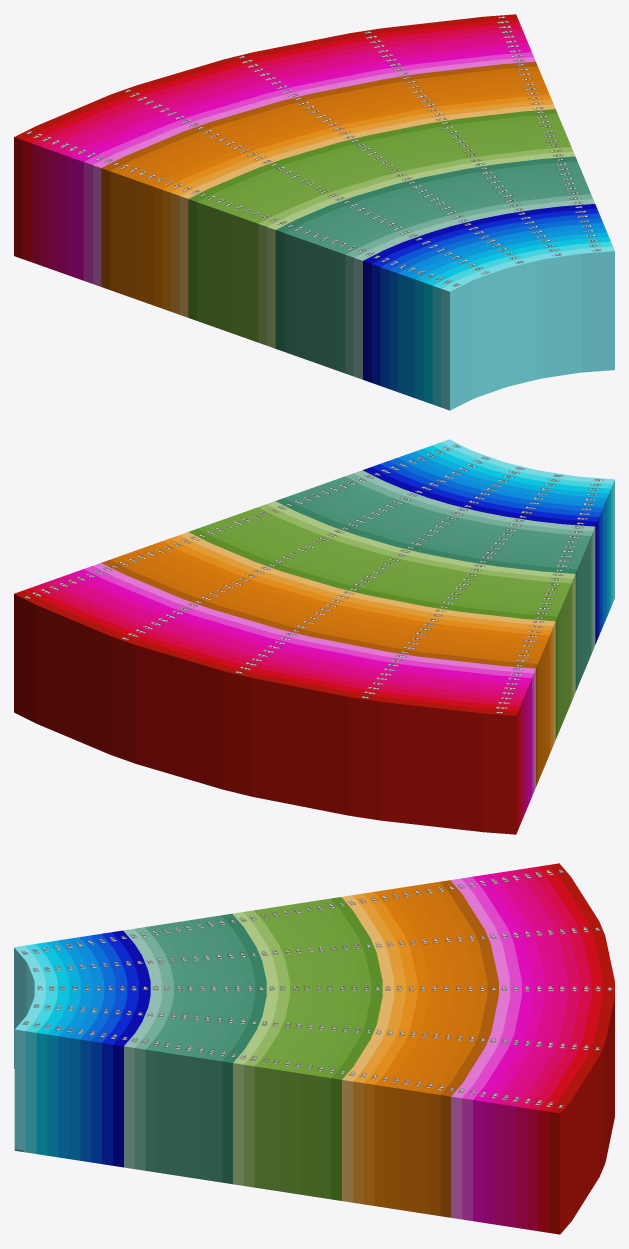
File: point_line_02.FBX
3 renders of one model, top to bottom at view 1: azimuth 30°, elevation 25°; view 2: azimuth 150°, elevation 25°; view 3: azimuth 270°, elevation 25°, orthographic. The views are drawn at different scales.
Visible parts, largest first — view 1: Box002; view 2: Box002; view 3: Box002.
Boxes of the visible parts, x1,y1,x2,y2 form: Box002: [14, 14, 614, 410]; Box002: [14, 439, 614, 834]; Box002: [14, 863, 614, 1234].
Bounding box in the file's own units: 485 × 493 × 110.
